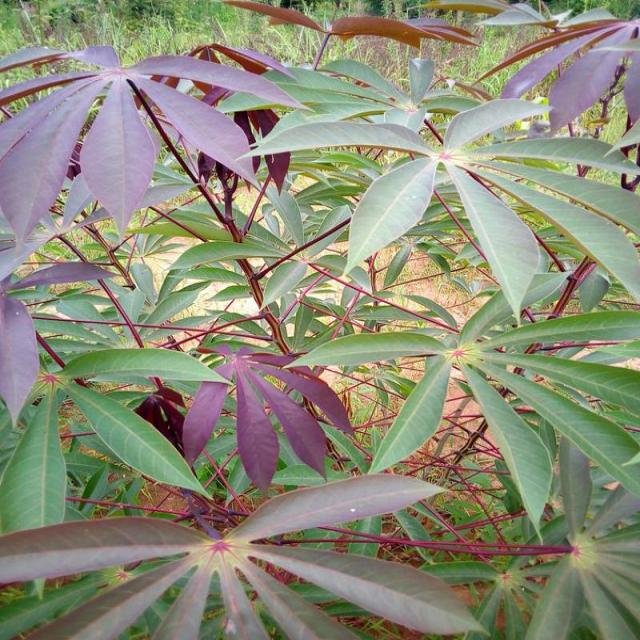cassava leaf: (2, 7, 639, 637), (2, 470, 488, 638), (343, 154, 439, 278)
